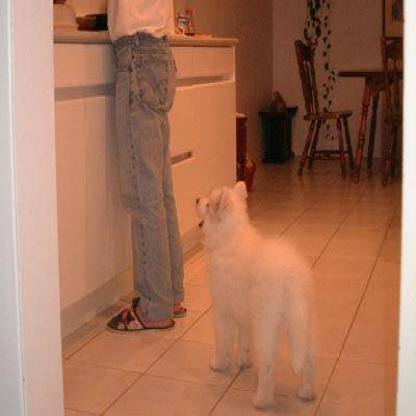Samoyed: (194, 178, 318, 409)
